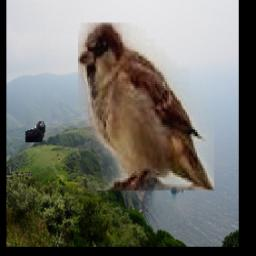Crow: (25, 120, 45, 142)
Sparrow: (78, 23, 214, 190)
